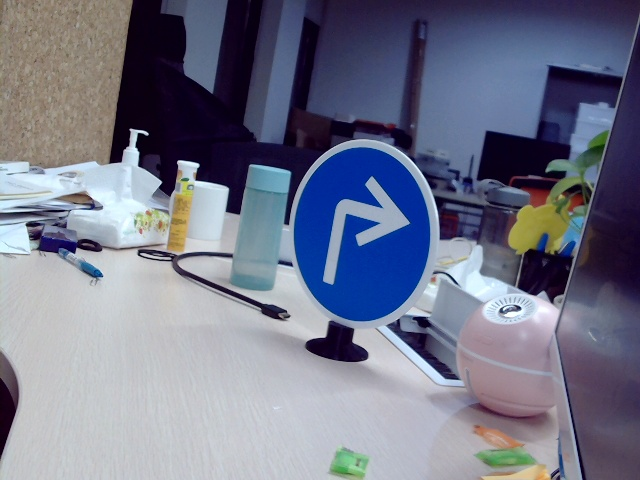turn_right: (323, 166, 413, 289)
